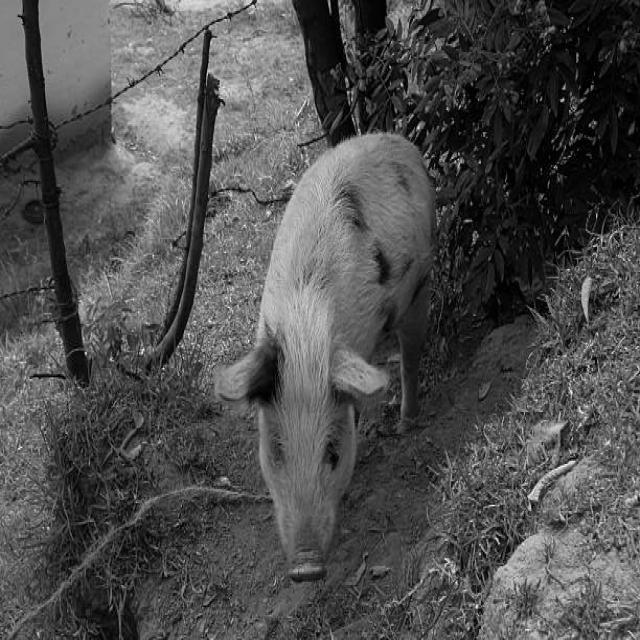boar: (213, 132, 433, 577)
